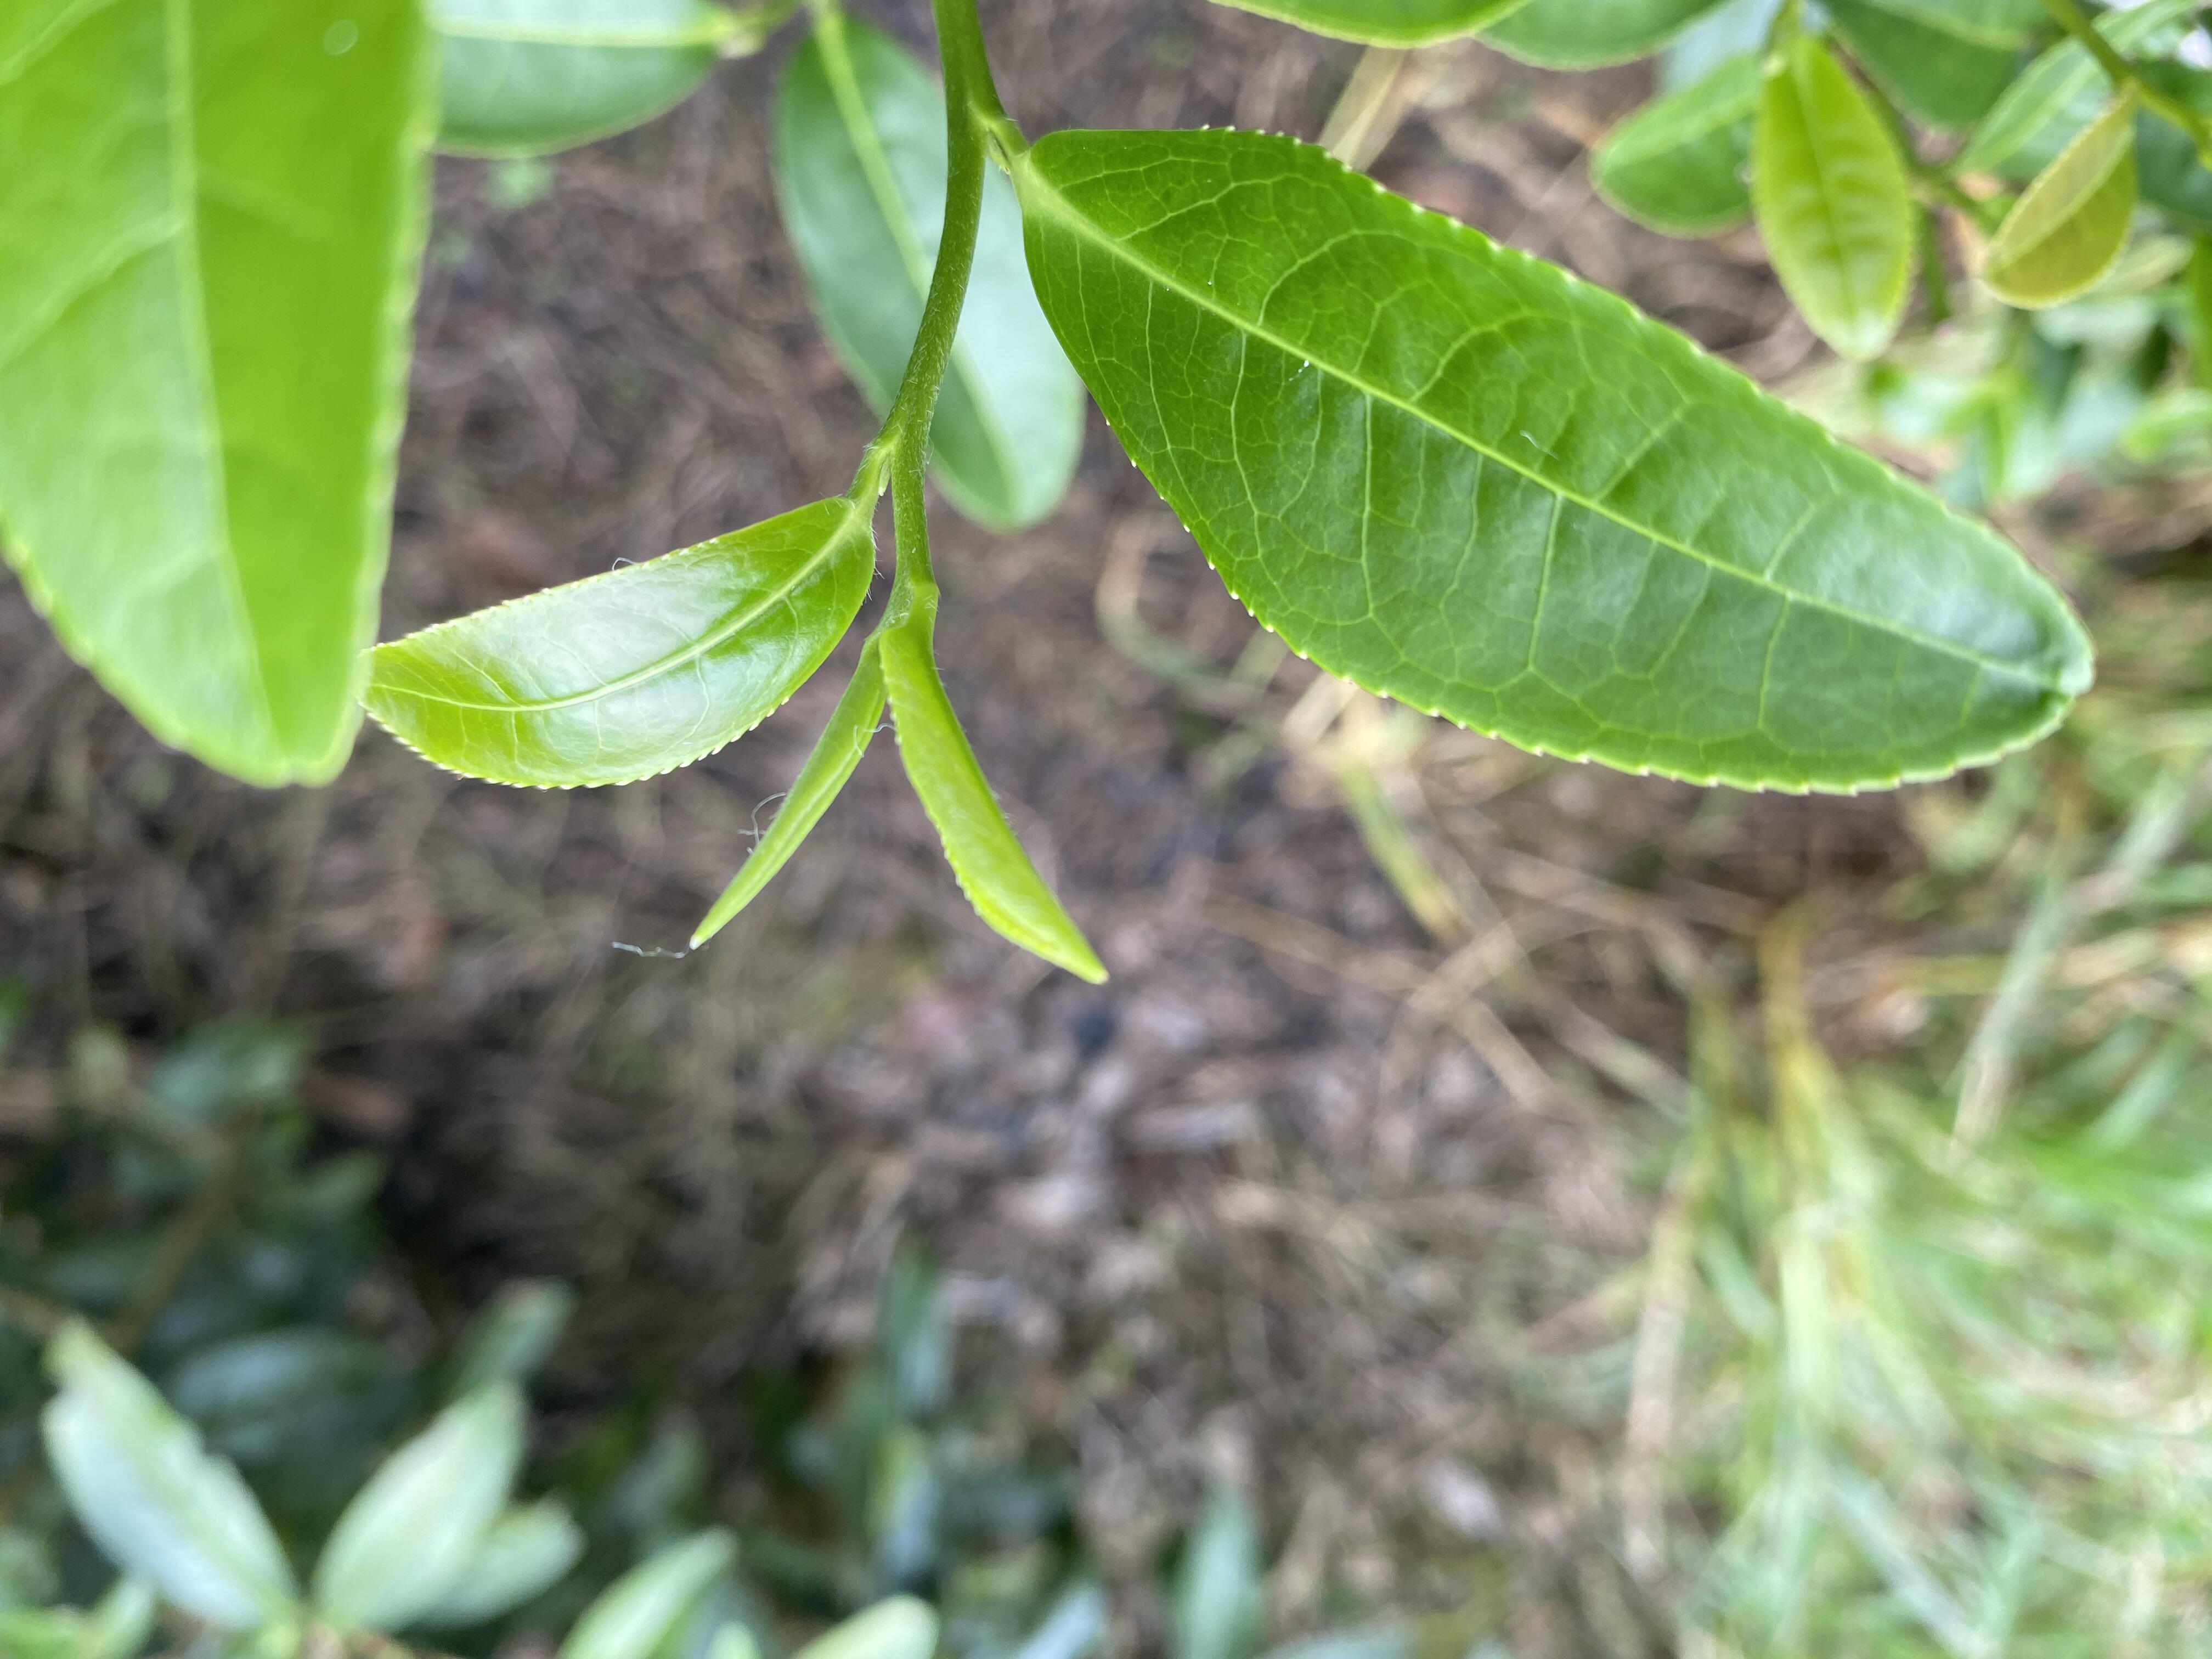healthy: (1019, 124, 2094, 795), (366, 495, 876, 796)
